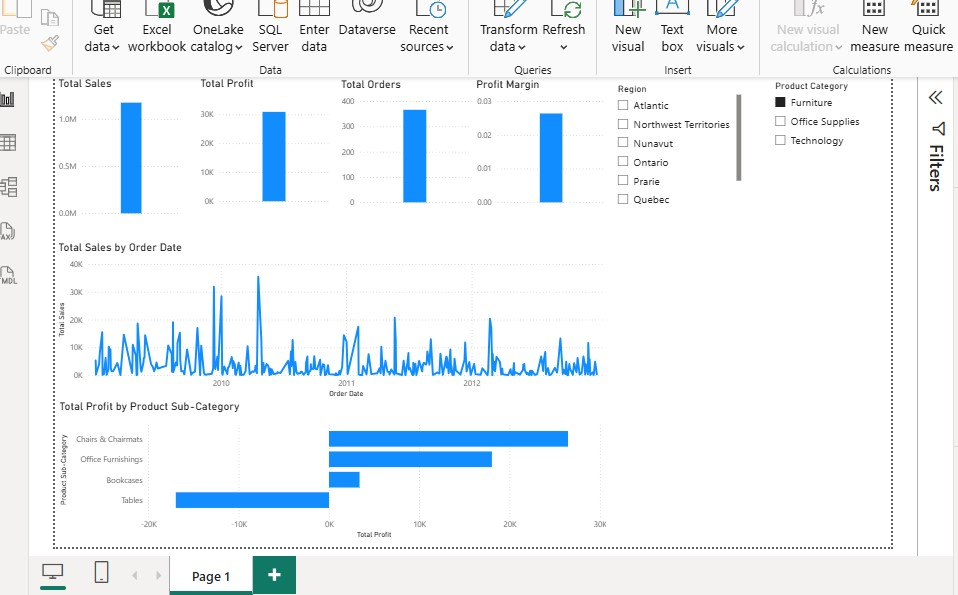

The page's visual inventory and layout, read from the dashboard file:
{"tool":"powerbi","page":{"name":"Page 1","canvas":[1280,720],"ordinal":0},"visuals":[{"type":"clusteredColumnChart","fields":{"Y":["_All Measures.Total Profit"]},"box":[217.2,0,207.1,203.8],"z":1},{"type":"clusteredColumnChart","fields":{"Y":["_All Measures.Total Orders"]},"box":[432.8,1.7,207.1,203.8],"z":2},{"type":"clusteredColumnChart","fields":{"Y":["_All Measures.Profit Margin"]},"box":[639.9,1.7,207.1,203.8],"z":3},{"type":"clusteredColumnChart","fields":{"Y":["_All Measures.Total Sales"]},"box":[0,0,197,222.3],"z":4},{"type":"lineChart","fields":{"Category":["Superstore-Sales.Order Date"],"Y":["_All Measures.Total Sales"]},"box":[0,250.9,847,244.2],"z":5},{"type":"clusteredBarChart","fields":{"Category":["Superstore-Sales.Product Sub-Category"],"Y":["_All Measures.Total Profit"]},"box":[1.7,495.1,847,215.5],"z":6},{"type":"slicer","fields":{"Values":["Superstore-Sales.Region"]},"box":[848.7,3.4,207.1,203.8],"z":7},{"type":"slicer","fields":{"Values":["Superstore-Sales.Product Category"]},"box":[1089.5,0,190.3,205.4],"z":8}]}

Visuals, with their boxes on the page's 1280x720 design canvas (x1, y1, x2, y2). These are canvas units, not pixel positions in the 958x595 screenshot, which may show the page scaled, cropped or inside an application window:
clusteredColumnChart - _All Measures.Total Profit: bbox=(217, 0, 424, 204)
clusteredColumnChart - _All Measures.Total Orders: bbox=(433, 2, 640, 206)
clusteredColumnChart - _All Measures.Profit Margin: bbox=(640, 2, 847, 206)
clusteredColumnChart - _All Measures.Total Sales: bbox=(0, 0, 197, 222)
lineChart - Superstore-Sales.Order Date x _All Measures.Total Sales: bbox=(0, 251, 847, 495)
clusteredBarChart - Superstore-Sales.Product Sub-Category x _All Measures.Total Profit: bbox=(2, 495, 849, 711)
slicer - Superstore-Sales.Region: bbox=(849, 3, 1056, 207)
slicer - Superstore-Sales.Product Category: bbox=(1090, 0, 1280, 205)
